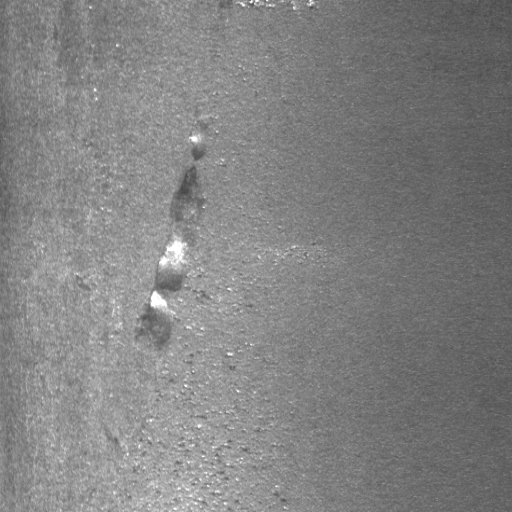aokeng: (134, 167, 204, 347)
